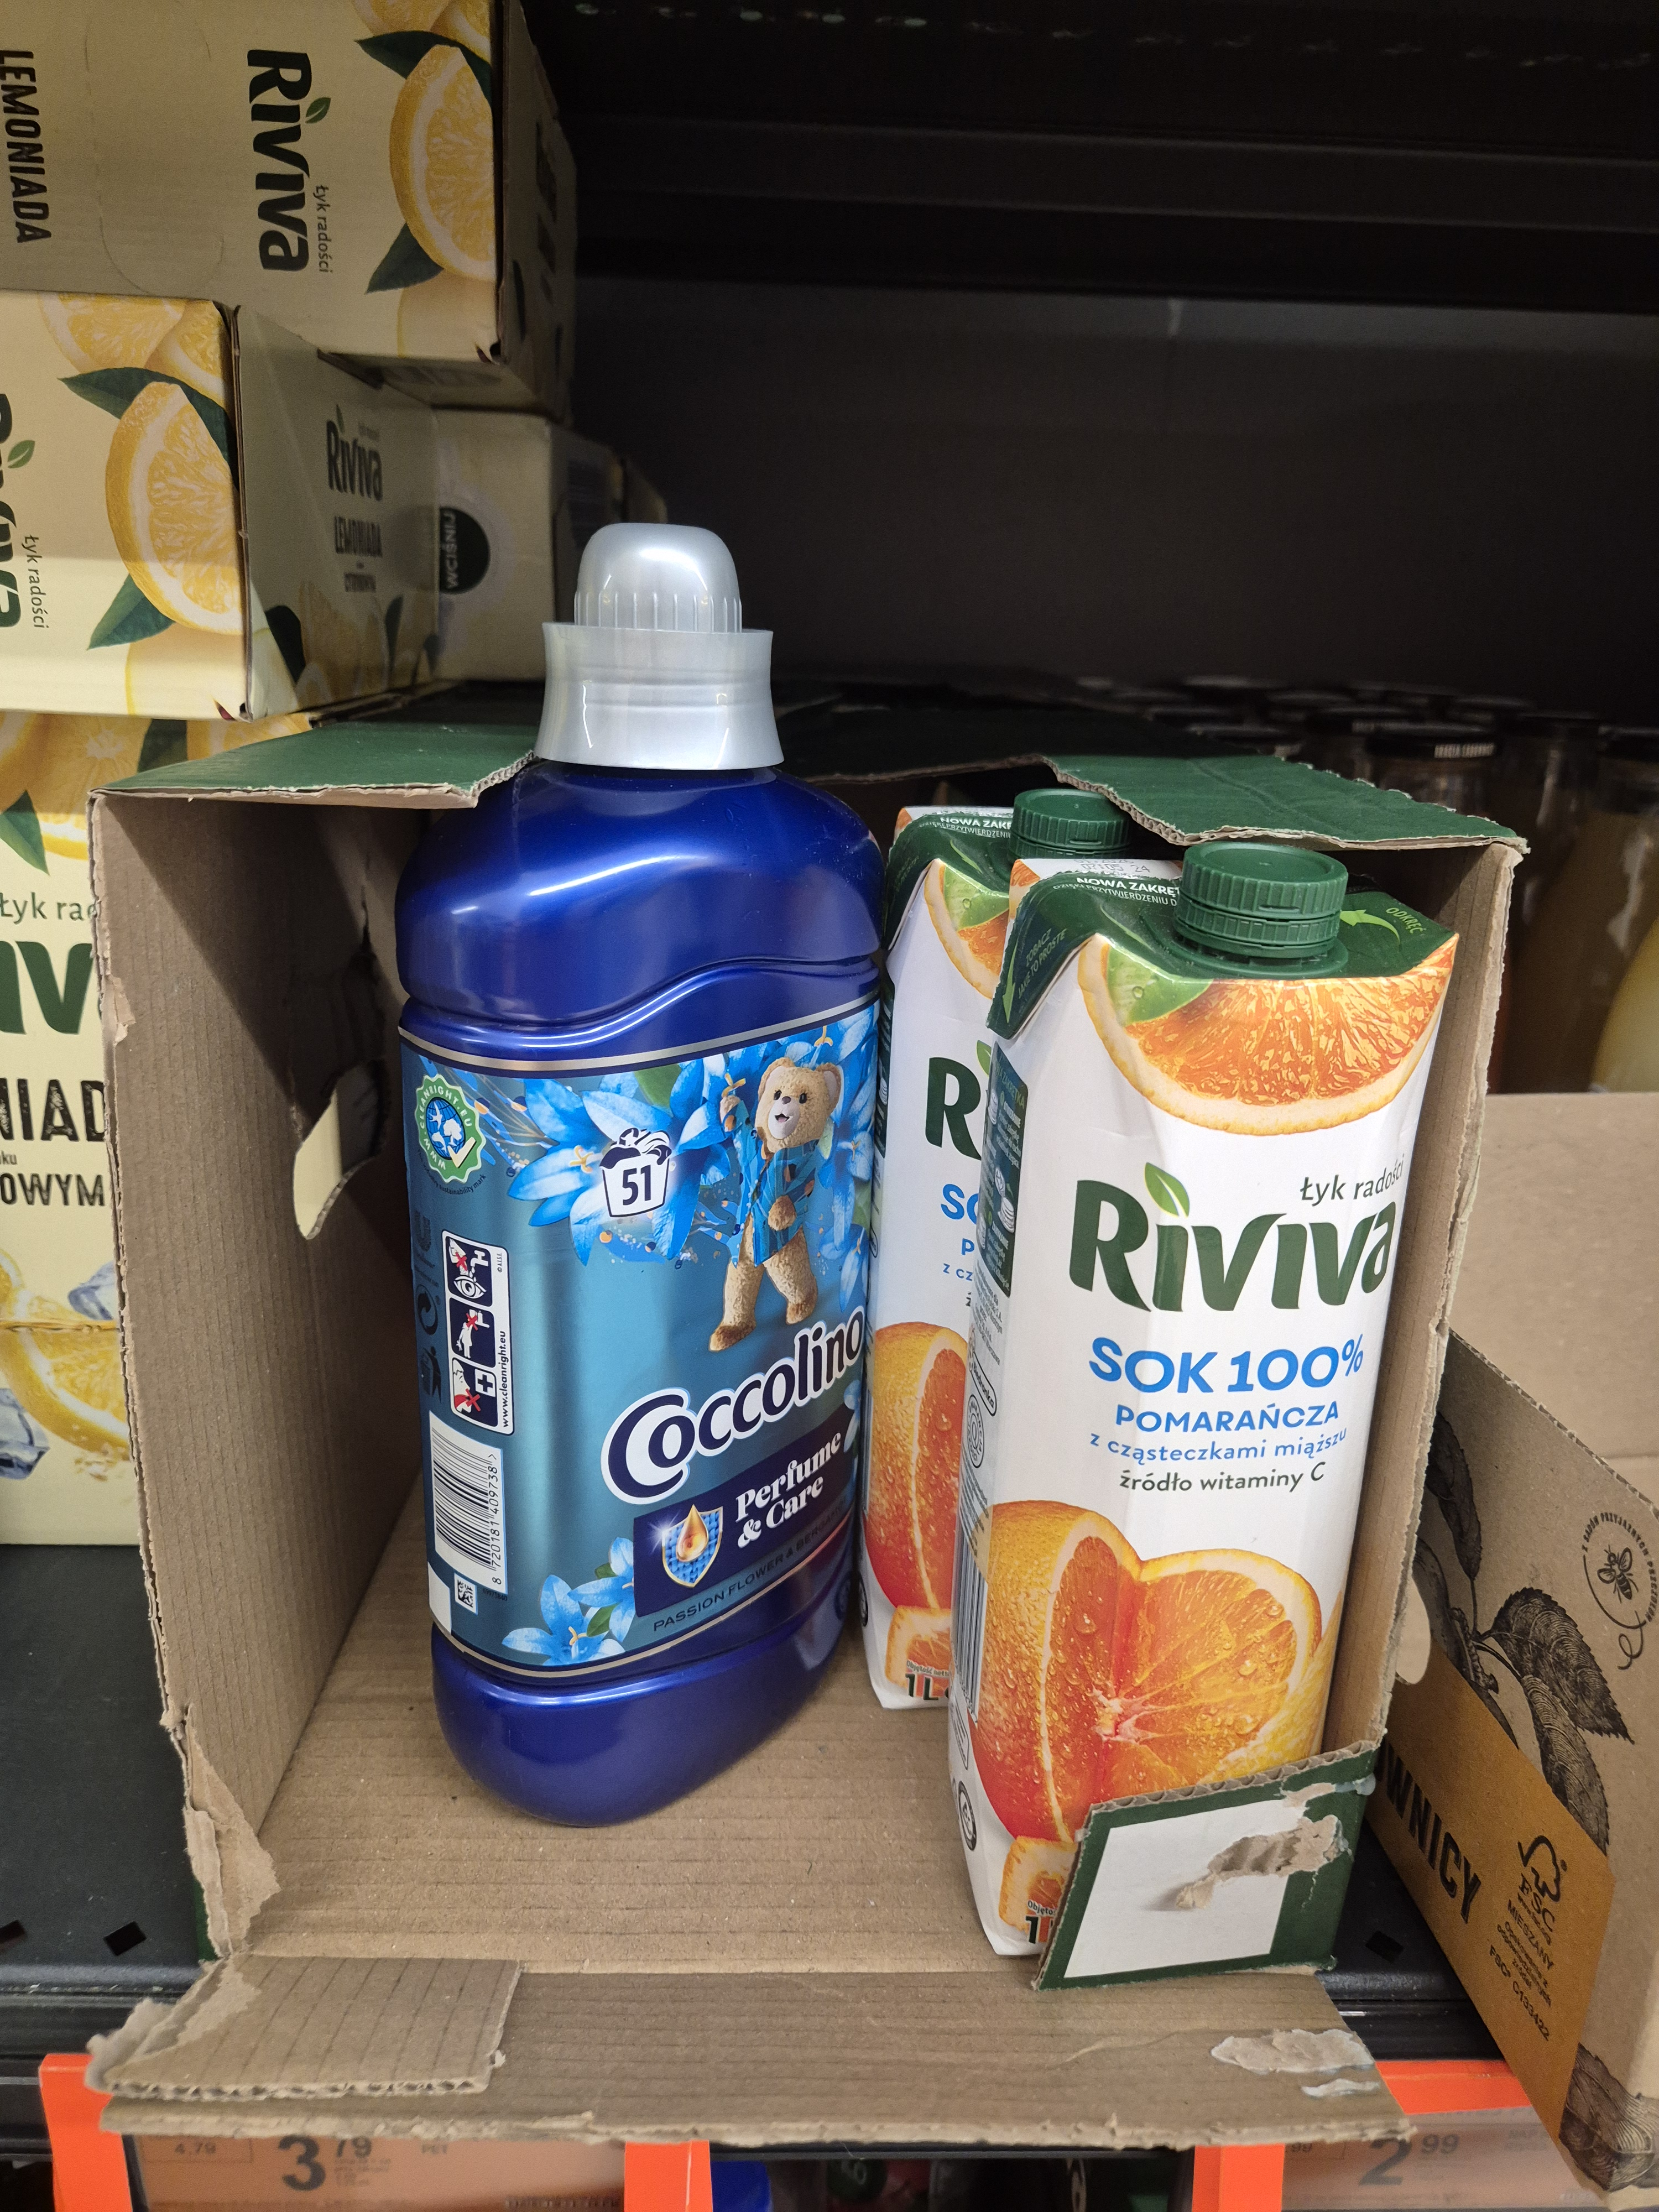cocolino: (434, 521, 870, 1797)
